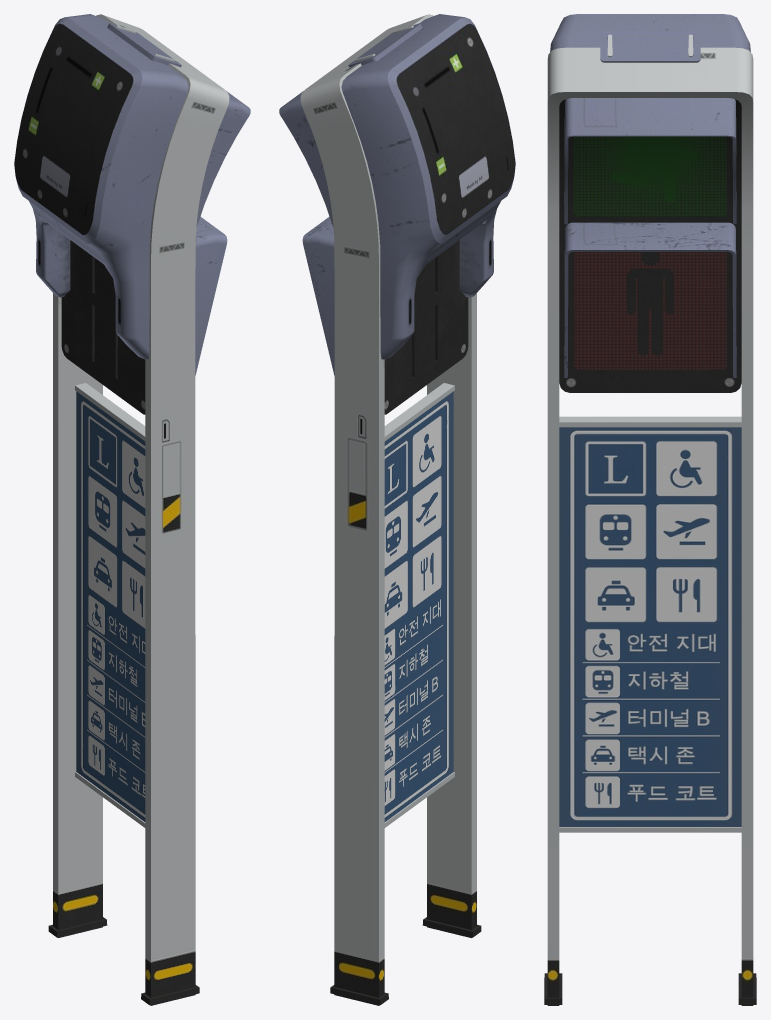
File: ped_signal.gltf
3 views of the same model, side by side, from view 1: azimuth 30°, elevation 25°; view 2: azimuth 150°, elevation 25°; view 3: azimuth 270°, elevation 25° (orthographic). The views are drawn at different scales.
Parts seen in each view (by area): view 1: ped_signal; view 2: ped_signal; view 3: ped_signal.
Part boxes in pixels (x1,y1,x2,y2): ped_signal: (14,14,250,1005); ped_signal: (279,14,515,1005); ped_signal: (544,14,756,1005).
Bounding box in the file's own units: 0.4984 × 2.75 × 0.5448.
1 material, 1 textured.
